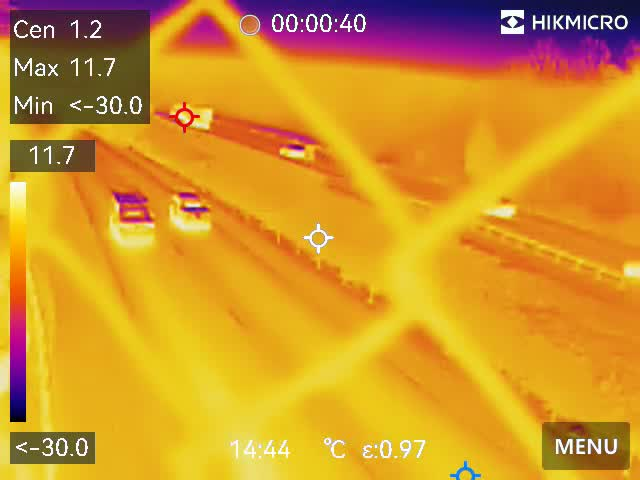heavyTruck: (169, 103, 218, 130)
vehicle: (106, 184, 160, 244), (169, 190, 211, 232), (474, 197, 520, 219), (278, 142, 313, 162)
